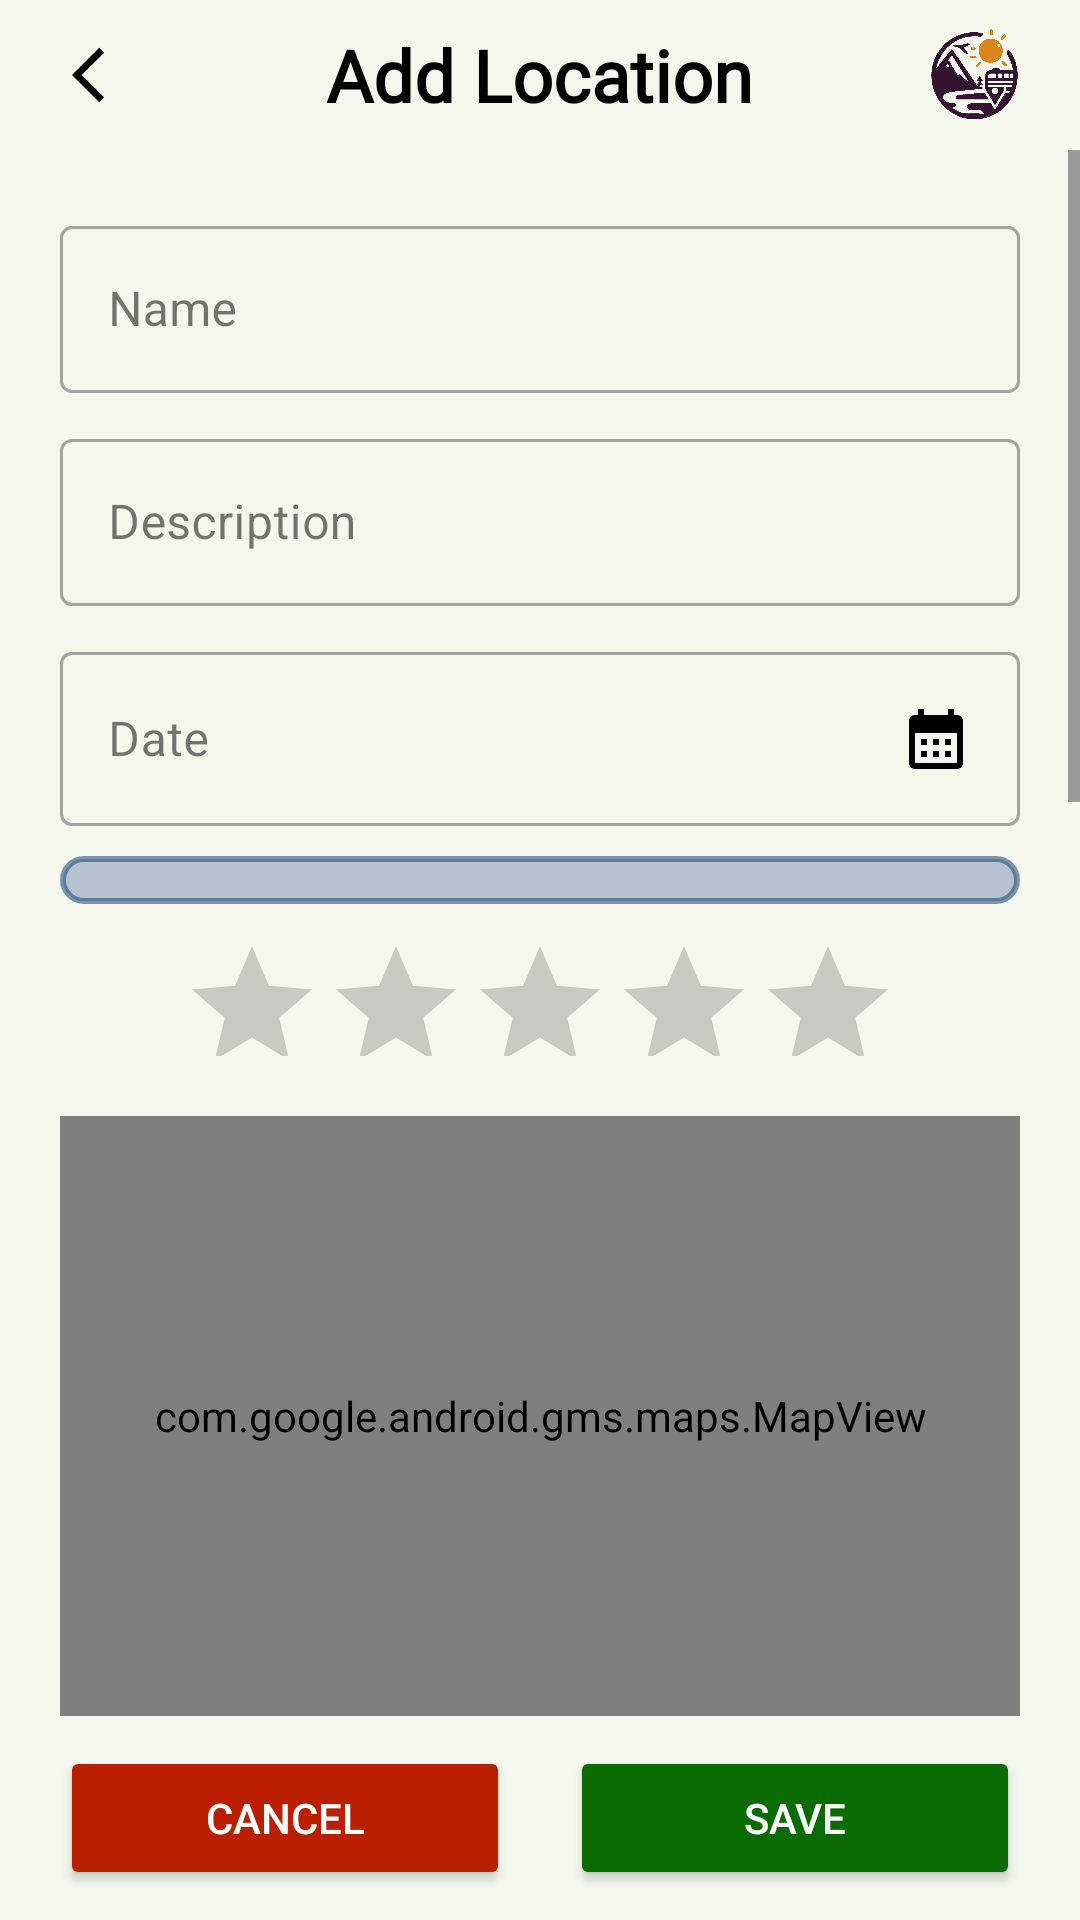

Where icons sit on this 1080*1920 app screen, as bbox(x1, y1, x2, y2):
backward: bbox(72, 48, 104, 102)
